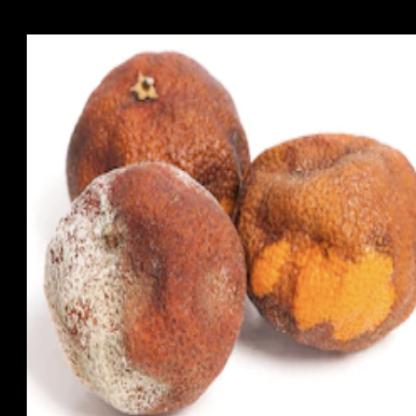rotten: (47, 53, 416, 416)
